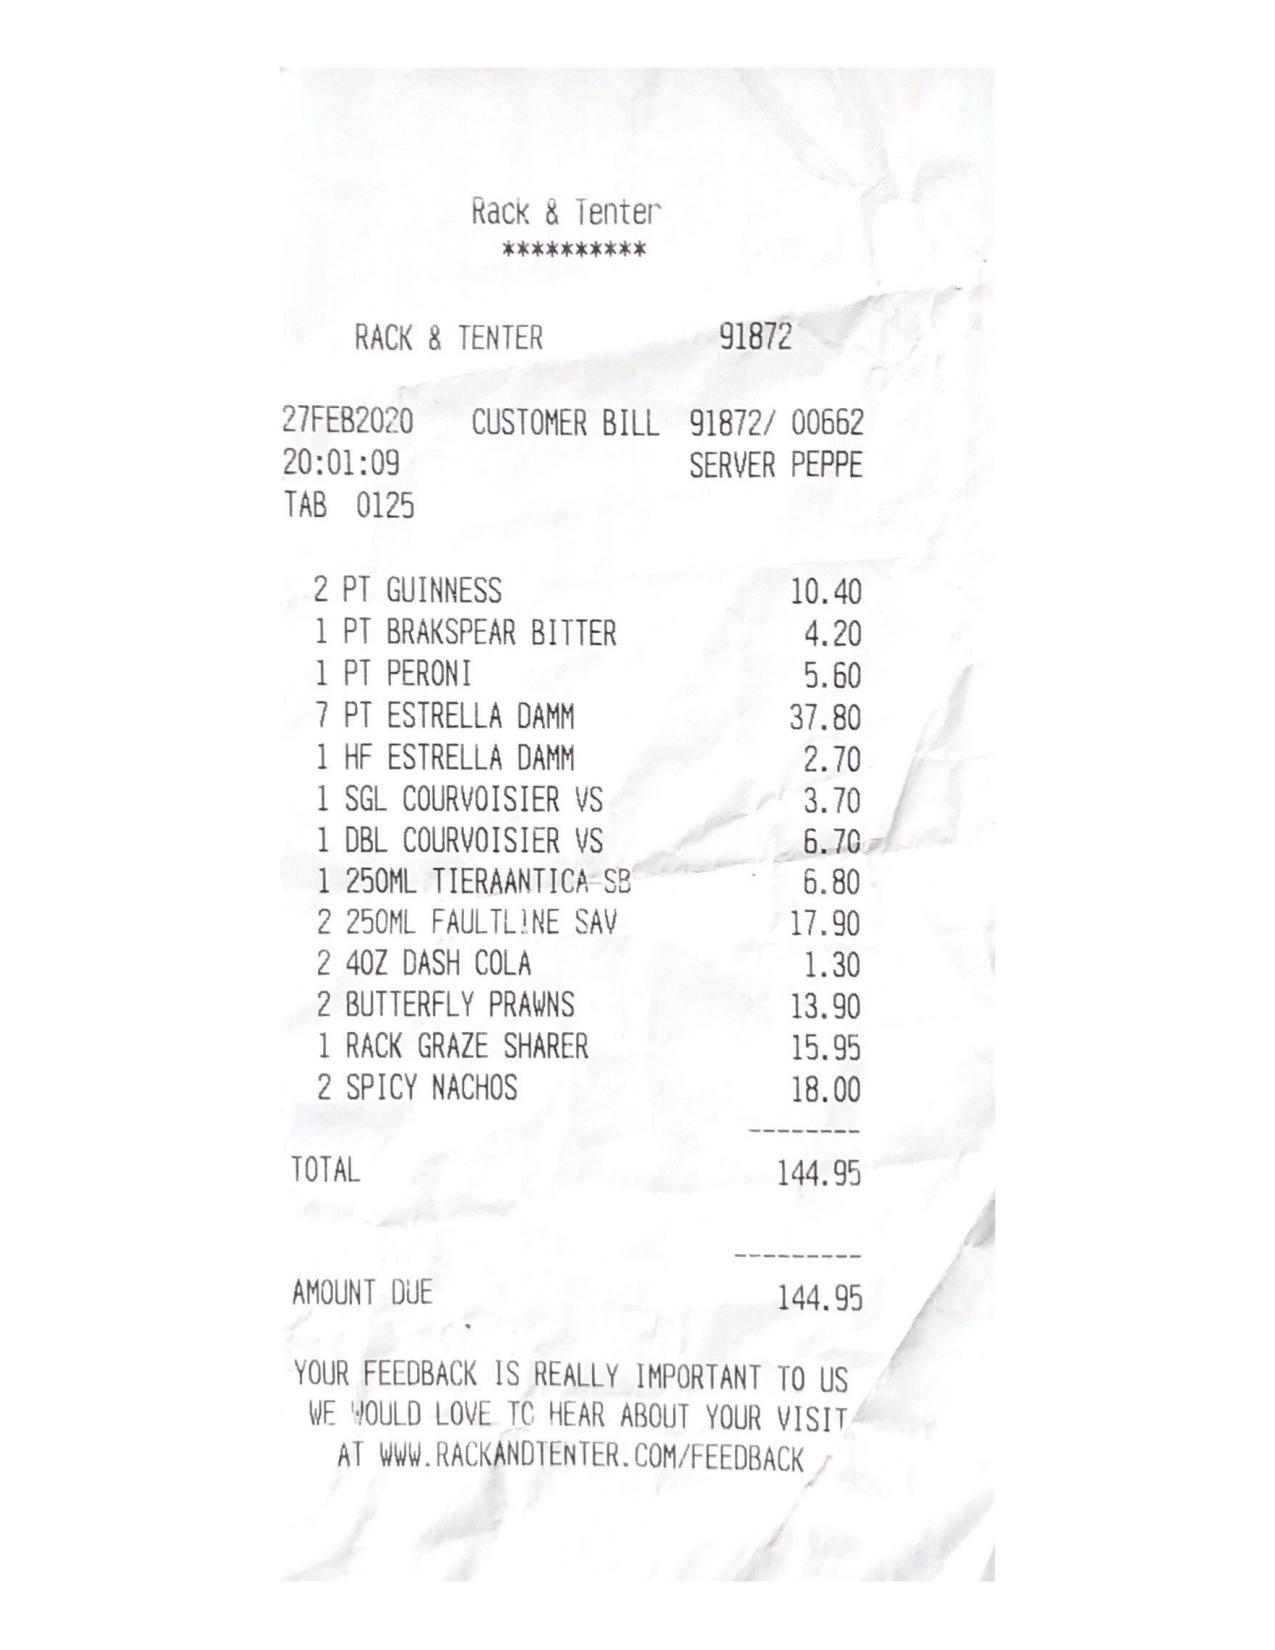Amount: (773, 1128, 854, 1247)
Date: (283, 404, 412, 433)
company_name: (473, 197, 660, 224)
